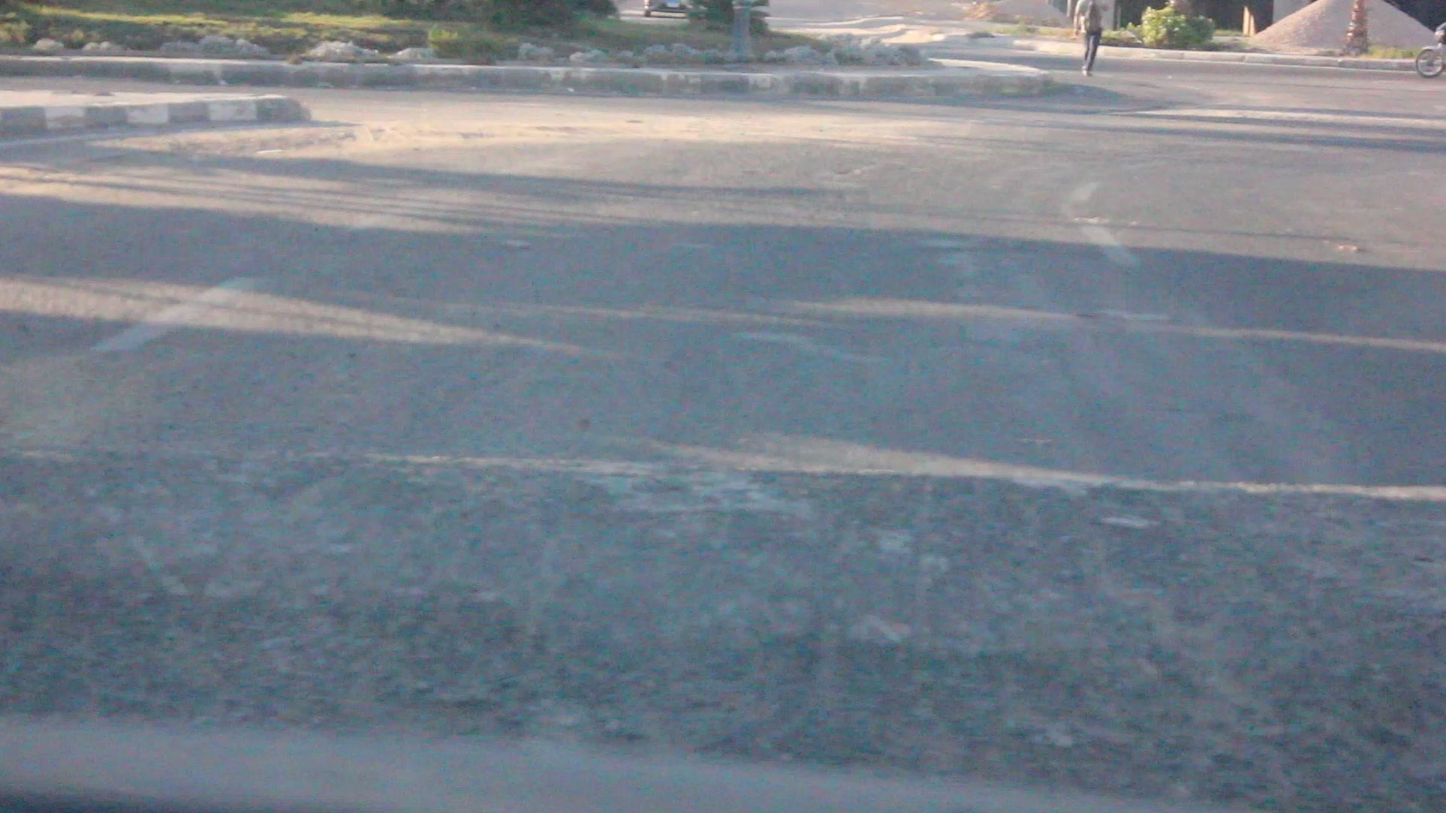Bump: (0, 467, 1446, 764)
